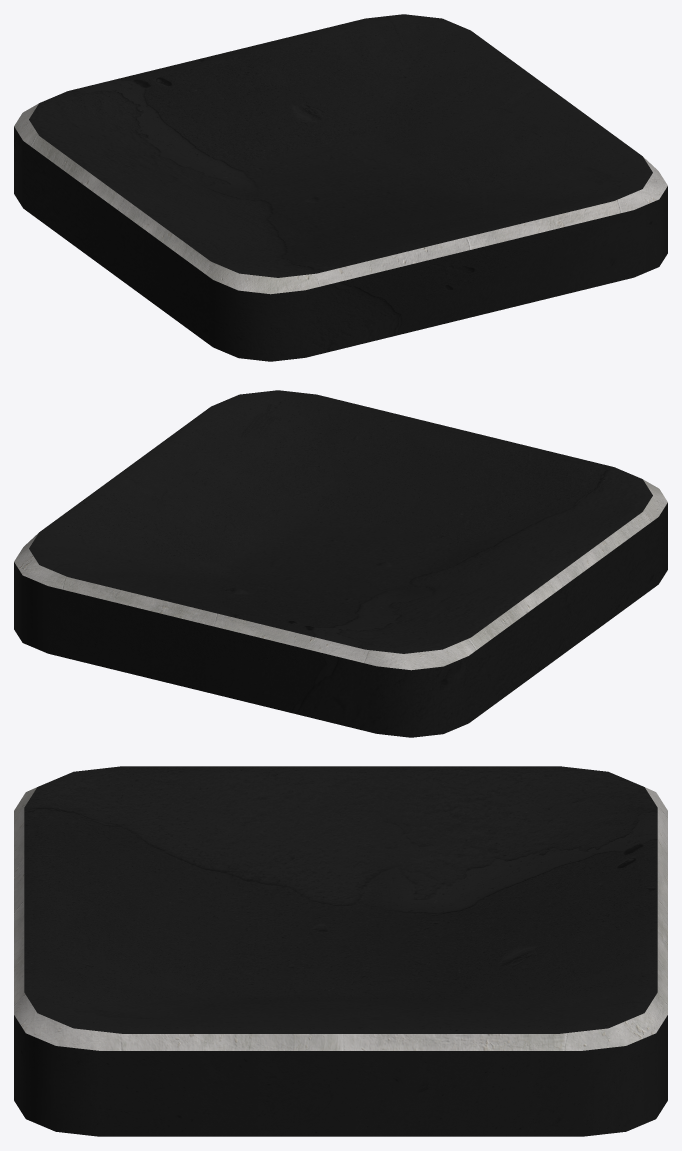
File: ButtonSocket.fbx
The picture shows the model from 3 angles, top to bottom: view 1: azimuth 30°, elevation 25°; view 2: azimuth 150°, elevation 25°; view 3: azimuth 270°, elevation 25°; orthographic projection. The views are drawn at different scales.
Visible parts, largest first — view 1: ButtonSocket; view 2: ButtonSocket; view 3: ButtonSocket.
Part boxes in pixels (x1=…): ButtonSocket: x1=14, y1=14, x2=667, y2=361; ButtonSocket: x1=14, y1=390, x2=667, y2=737; ButtonSocket: x1=14, y1=766, x2=667, y2=1136.
Size of the model in its own units: 0.2286 by 0.0462 by 0.2286.
